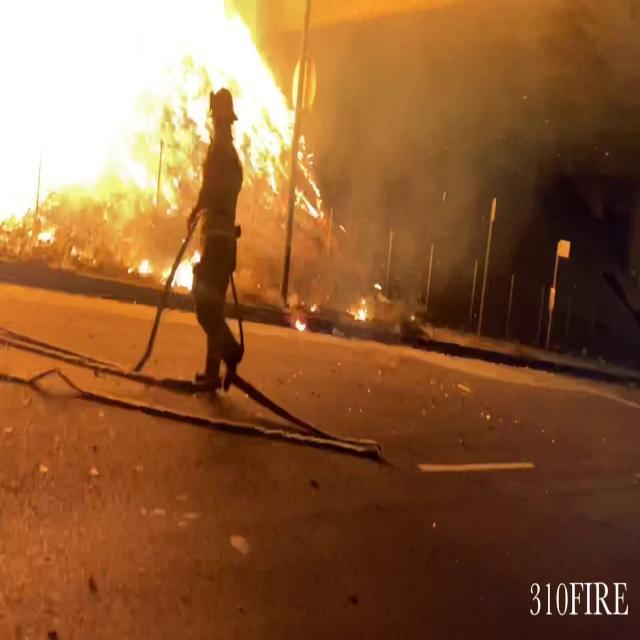Fire: (0, 0, 325, 252)
Smoke: (296, 0, 640, 256)
